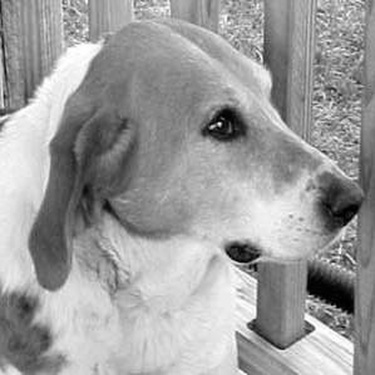dog: (1, 10, 368, 371)
